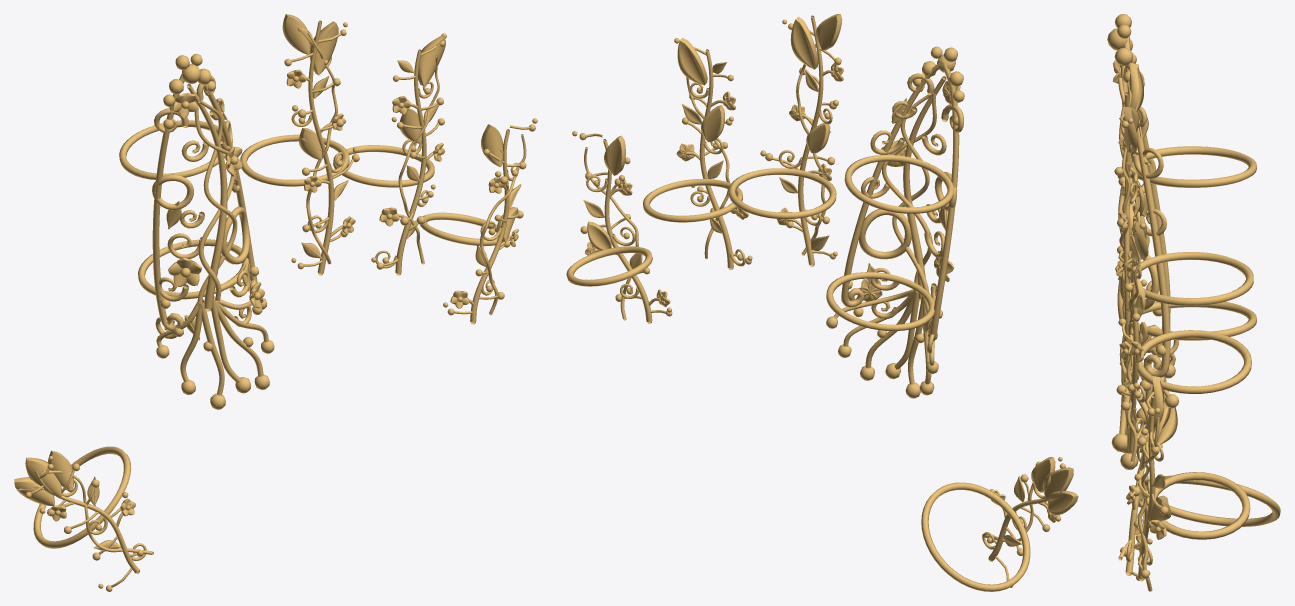
File: finger-armour.glb
The picture shows the model from 3 angles, left to right: view 1: azimuth 30°, elevation 25°; view 2: azimuth 150°, elevation 25°; view 3: azimuth 270°, elevation 25°; orthographic projection. The views are drawn at different scales.
Parts seen in each view (by area): view 1: piece_Gold; view 2: piece_Gold; view 3: piece_Gold.
Boxes of the visible parts, <box> form: piece_Gold: <box>14,14,537,591</box>; piece_Gold: <box>566,14,1078,591</box>; piece_Gold: <box>1107,14,1280,591</box>.
Size of the model in its own units: 0.0953 by 0.0941 by 0.024.
